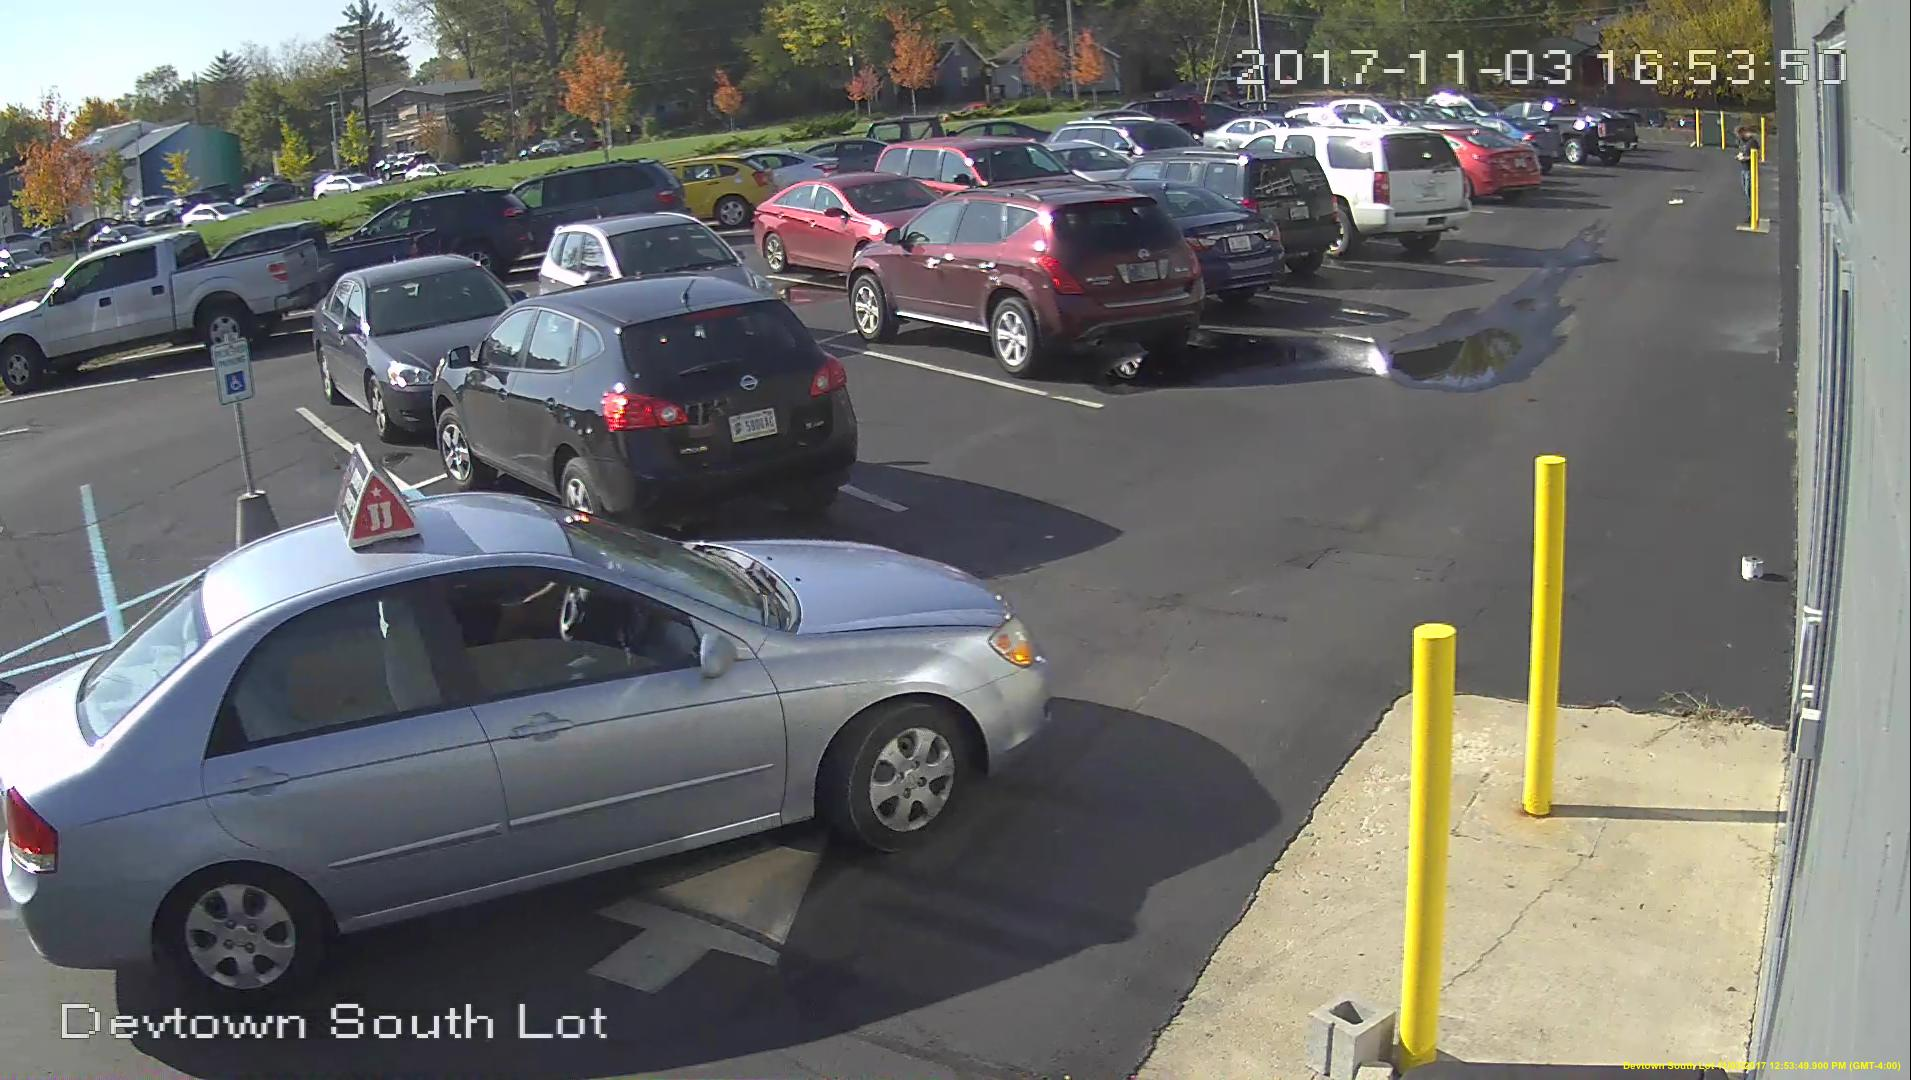jimmy_johns: (333, 442, 420, 549)
